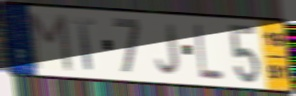5: (226, 22, 261, 85)
7: (110, 16, 144, 77)
J: (154, 22, 181, 77)
L: (192, 22, 225, 82)
M: (27, 11, 74, 74)
T: (69, 16, 97, 72)
